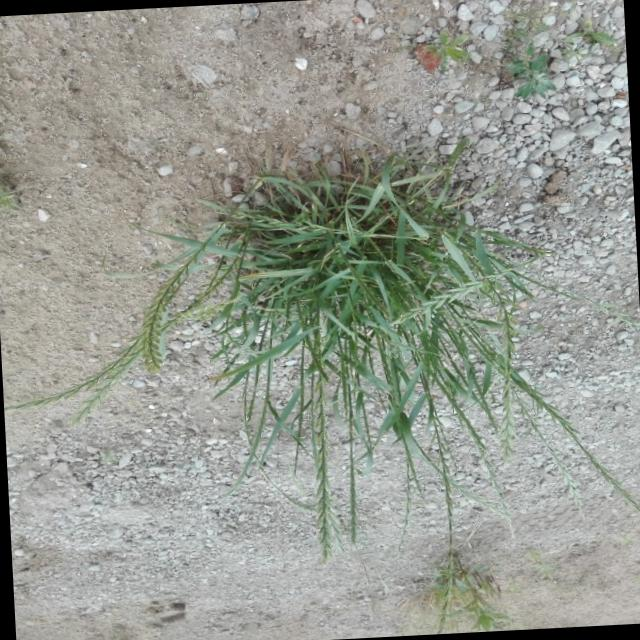Lolium: (492, 347, 640, 526), (68, 288, 218, 428), (0, 326, 150, 411), (387, 252, 552, 328), (514, 386, 586, 518), (137, 247, 210, 373), (424, 414, 460, 633), (308, 371, 338, 561), (342, 396, 363, 544), (388, 460, 417, 556)
